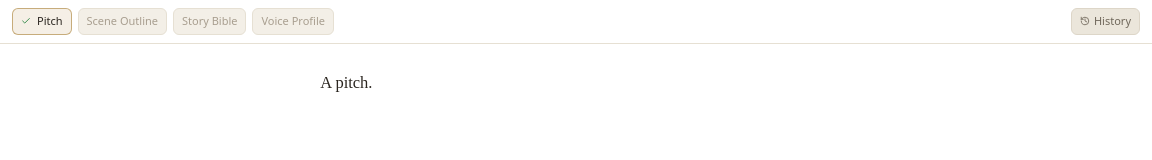
it: SourcesTab › points the missing voice profile at the command palette
This screenshot has width=1152, height=160.
Expected: the text "A pitch." is shown, [320, 72, 373, 92]
What coordinates should you click on to do the following:
click the button "Voice Profile"
I would click on:
 (293, 21)
Its box is [252, 8, 334, 34].
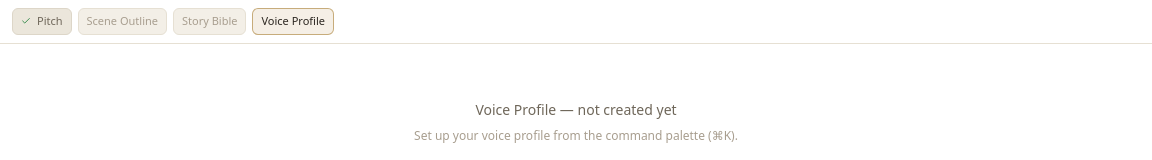
Now the text "Set up your voice profile from the command palette (⌘K)." is shown, box [414, 126, 738, 144]
